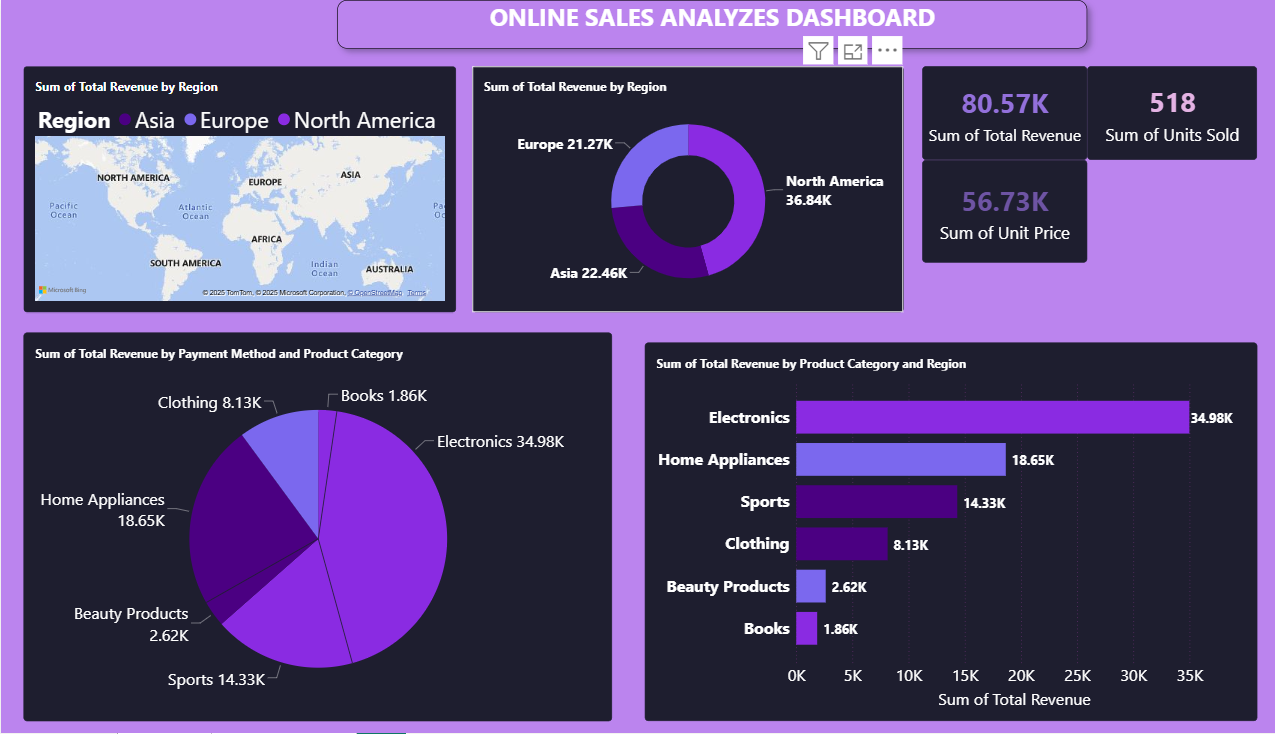

The page's visual inventory and layout, read from the dashboard file:
{"tool":"powerbi","page":{"name":"Page 1","canvas":[1700,1000],"ordinal":0},"visuals":[{"type":"map","fields":{"Series":["Online Sales Data (1).Region"],"Size":["Sum(Online Sales Data (1).Total Revenue)"]},"box":[30,88.3,576.7,328.3],"z":0},{"type":"textbox","box":[448.3,0,1000,65],"z":1000},{"type":"donutChart","fields":{"Y":["Sum(Online Sales Data (1).Total Revenue)"],"Category":["Online Sales Data (1).Region"]},"box":[628.3,88.3,575,328.3],"z":2000},{"type":"barChart","fields":{"Category":["Online Sales Data (1).Product Category"],"Y":["Sum(Online Sales Data (1).Total Revenue)"],"Series":["Online Sales Data (1).Region"]},"box":[858.3,456.7,816.7,505],"z":3000},{"type":"card","fields":{"Values":["Sum(Online Sales Data (1).Total Revenue)"]},"box":[1228.3,88.3,220,125],"z":4000},{"type":"card","fields":{"Values":["Sum(Online Sales Data (1).Unit Price)"]},"box":[1228.3,213.3,220,136.7],"z":5000},{"type":"pieChart","fields":{"Category":["Online Sales Data (1).Payment Method"],"Y":["Sum(Online Sales Data (1).Total Revenue)"],"Series":["Online Sales Data (1).Product Category"]},"box":[30,443.3,785,518.3],"z":6000},{"type":"card","fields":{"Values":["Sum(Online Sales Data (1).Units Sold)"]},"box":[1448.3,88.3,226.7,125],"z":7000}]}

Visuals, with their boxes in screenshot pixels (x1, y1, x2, y2), scaled from the page's 1700x1000 canvas onto the 1275x734 screenshot:
map - Online Sales Data (1).Region x Sum(Online Sales Data (1).Total Revenue): (22,65,455,306)
textbox: (336,0,1086,48)
donutChart - Sum(Online Sales Data (1).Total Revenue) x Online Sales Data (1).Region: (471,65,902,306)
barChart - Online Sales Data (1).Product Category x Sum(Online Sales Data (1).Total Revenue): (644,335,1256,706)
card - Sum(Online Sales Data (1).Total Revenue): (921,65,1086,157)
card - Sum(Online Sales Data (1).Unit Price): (921,157,1086,257)
pieChart - Online Sales Data (1).Payment Method x Sum(Online Sales Data (1).Total Revenue): (22,325,611,706)
card - Sum(Online Sales Data (1).Units Sold): (1086,65,1256,157)
